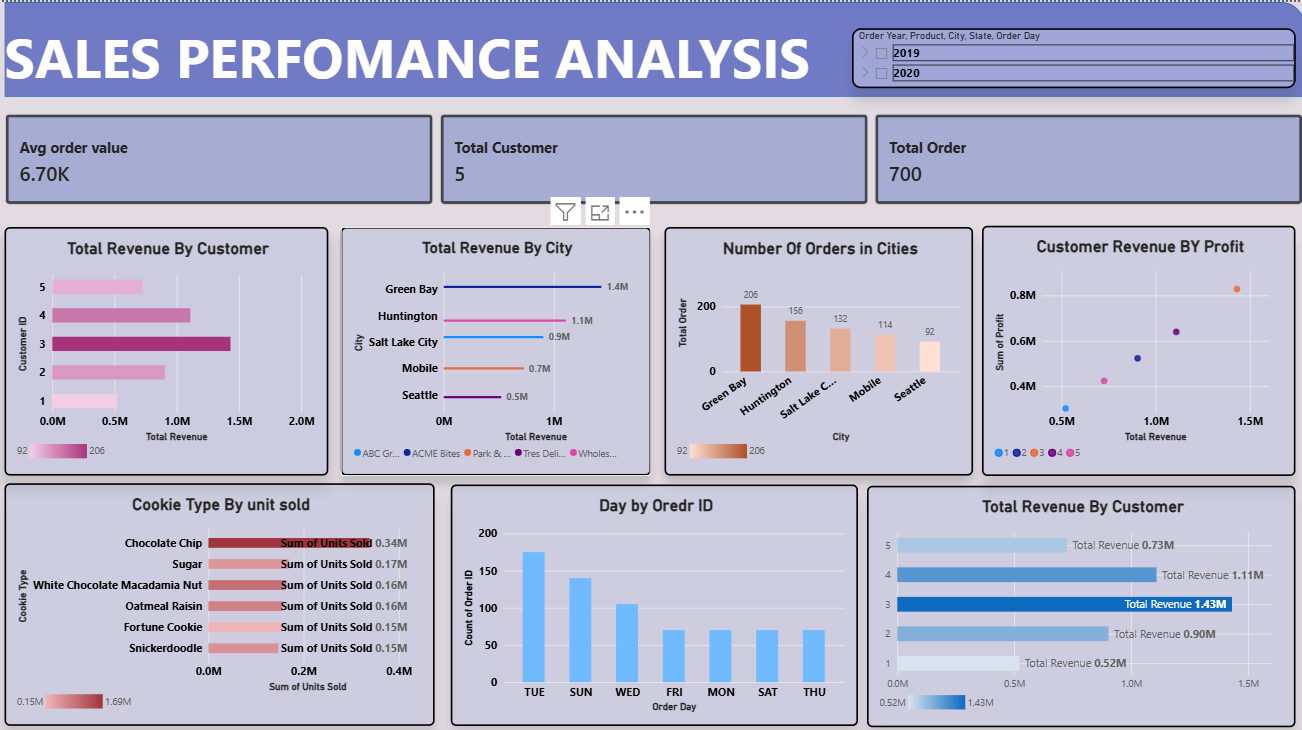

Layout of this report page (visuals, bound fields, positions):
{"tool":"powerbi","page":{"name":"Second Page","canvas":[1920,1080],"ordinal":1},"visuals":[{"type":"shape","box":[11.8,0,1907.8,139.2],"z":0},{"type":"textbox","box":[10.9,26.1,1908.7,113],"z":1000},{"type":"cardVisual","fields":{"Data":["Orders.Avg order value","Orders.Total Customer","Orders.Total Order"]},"box":[11.8,162.7,1907.8,135.3],"z":2000},{"type":"barChart","title":"Total Revenue By Customer","fields":{"Category":["Orders.Customer ID"],"Y":["Orders.Total Revenue"]},"box":[11,330.2,475.1,365],"z":3000},{"type":"clusteredBarChart","title":"Total Revenue By City","fields":{"Category":["Customers.City"],"Series":["Customers.Name"],"Y":["Orders.Total Revenue"]},"box":[504.4,330.2,454.9,365],"z":4000},{"type":"clusteredColumnChart","title":"Number Of Orders in Cities","fields":{"Category":["Customers.City"],"Y":["Orders.Total Order"]},"box":[979.5,330.2,453.1,365],"z":5000},{"type":"clusteredBarChart","title":"Cookie Type By unit sold","fields":{"Category":["Cookie Types.Cookie Type"],"Y":["Sum(Orders.Units Sold)"]},"box":[11,706.2,631,355.8],"z":6000},{"type":"scatterChart","title":"Customer Revenue BY Profit","fields":{"Series":["Customers.Customer ID"],"X":["Orders.Total Revenue"],"Y":["Sum(Orders.Profit)"]},"box":[1445.4,328.3,460.4,366.8],"z":7000},{"type":"clusteredColumnChart","title":"Day by Oredr ID","fields":{"Category":["Orders.Order Day"],"Y":["CountNonNull(Orders.Order ID)"]},"box":[665.8,708,598,354],"z":8000},{"type":"slicer","fields":{"Values":["Orders.Order Year","Orders.Product","Customers.City","Customers.State","Orders.Order Day"]},"box":[1254.6,38.5,651.2,88],"z":9000},{"type":"clusteredBarChart","title":"Total Revenue By Customer ","fields":{"Category":["Orders.Customer ID"],"Y":["Orders.Total Revenue"]},"box":[1276.6,709.9,629.1,354],"z":10000}]}

Visuals, with their boxes in screenshot pixels (x1, y1, x2, y2), scaled from the page's 1920x1080 canvas onto the 1302x730 screenshot:
shape: locate(8, 0, 1301, 94)
textbox: locate(7, 18, 1301, 94)
cardVisual - Orders.Avg order value x Orders.Total Customer: locate(8, 110, 1301, 201)
"Total Revenue By Customer" barChart: locate(7, 223, 330, 470)
"Total Revenue By City" clusteredBarChart: locate(342, 223, 651, 470)
"Number Of Orders in Cities" clusteredColumnChart: locate(664, 223, 971, 470)
"Cookie Type By unit sold" clusteredBarChart: locate(7, 477, 435, 718)
"Customer Revenue BY Profit" scatterChart: locate(980, 222, 1292, 470)
"Day by Oredr ID" clusteredColumnChart: locate(451, 479, 857, 718)
slicer - Orders.Order Year x Orders.Product: locate(851, 26, 1292, 86)
"Total Revenue By Customer " clusteredBarChart: locate(866, 480, 1292, 719)
